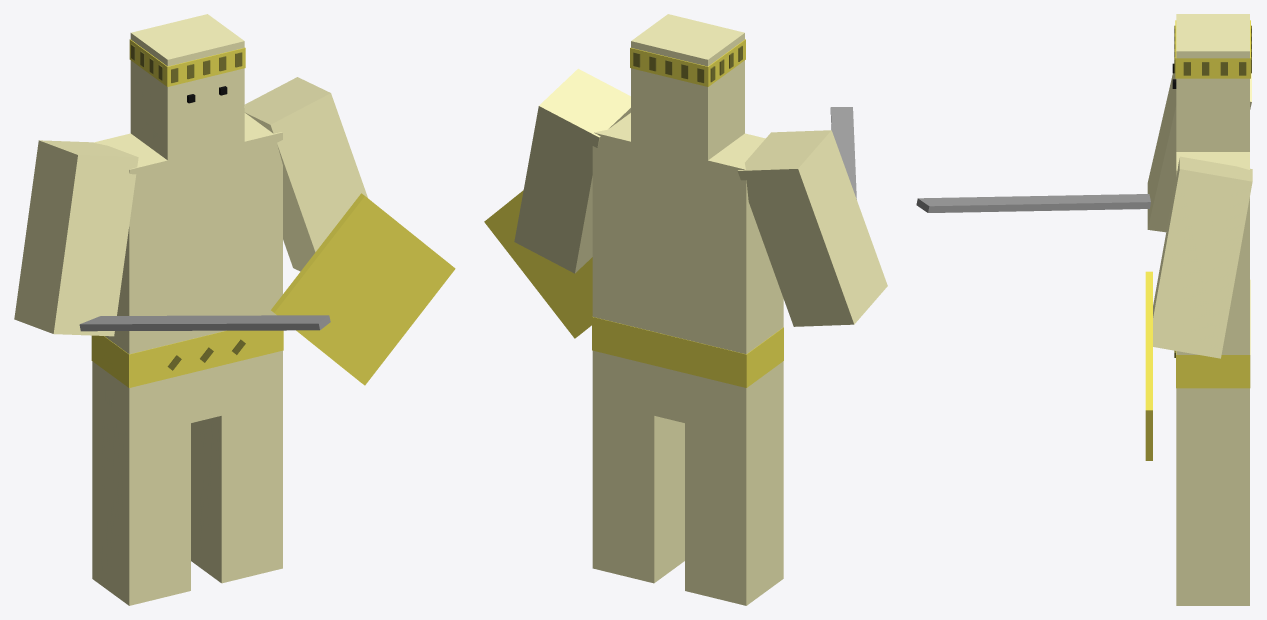
Rendered from RisingStar.fbx.
3 renders of one model, left to right at view 1: azimuth 30°, elevation 25°; view 2: azimuth 150°, elevation 25°; view 3: azimuth 270°, elevation 25°, orthographic.
Parts seen in each view (by area): view 1: Cube.001, Cube.029, Cube.030, Cube.028, Cube.007; view 2: Cube.001, Cube.030, Cube.029, Cube.007, Cube.028; view 3: Cube.001, Cube.028, Cube.030, Cube.029, Cube.007.
Part boxes in pixels (bbox=[...]): Cube.001: bbox=[14, 14, 367, 605]; Cube.029: bbox=[271, 193, 455, 385]; Cube.030: bbox=[91, 330, 283, 387]; Cube.028: bbox=[79, 315, 330, 331]; Cube.007: bbox=[129, 39, 245, 86]; Cube.001: bbox=[514, 14, 887, 605]; Cube.030: bbox=[592, 317, 783, 387]; Cube.029: bbox=[484, 190, 592, 338]; Cube.007: bbox=[630, 39, 745, 86]; Cube.028: bbox=[830, 107, 856, 199]; Cube.001: bbox=[1147, 14, 1252, 605]; Cube.028: bbox=[916, 194, 1150, 212]; Cube.030: bbox=[1176, 280, 1250, 388]; Cube.029: bbox=[1145, 271, 1152, 460]; Cube.007: bbox=[1175, 20, 1250, 78].
Size of the model in its own units: 126 by 160 by 91.
